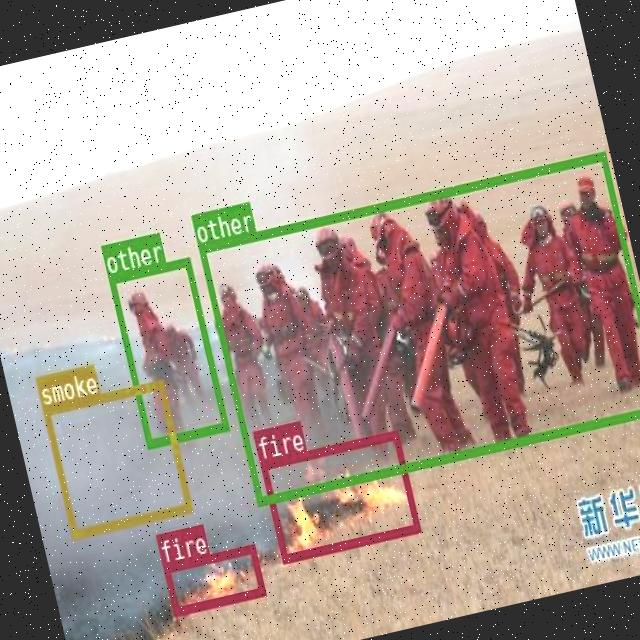fire: (258, 428, 420, 562), (162, 543, 264, 614)
smoke: (41, 379, 191, 538)
